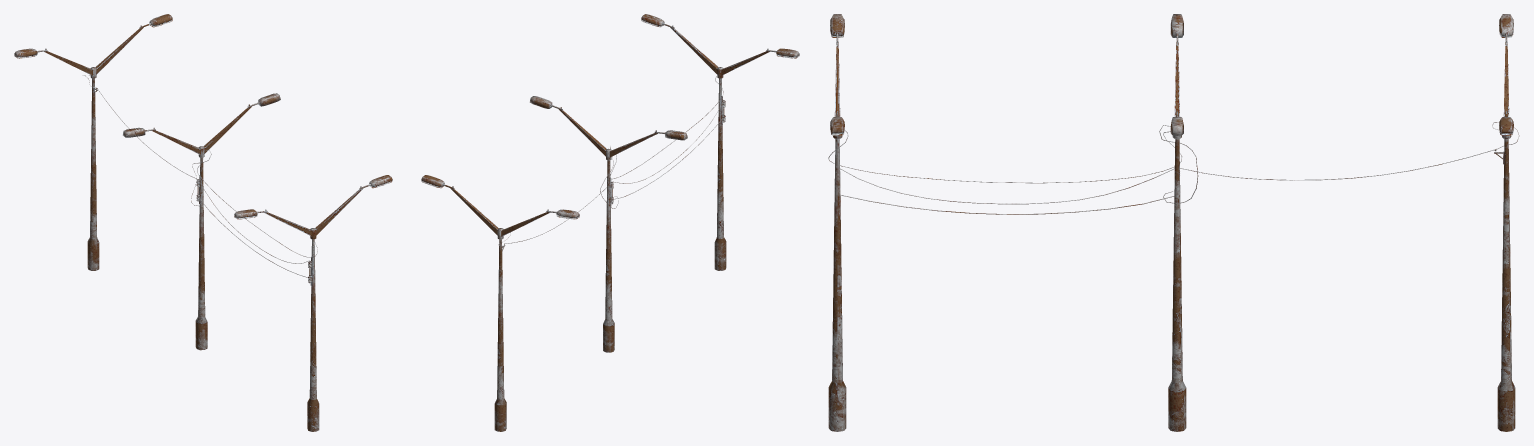
File: LightPolesMesh.fbx
3 renders of one model, left to right at view 1: azimuth 30°, elevation 25°; view 2: azimuth 150°, elevation 25°; view 3: azimuth 270°, elevation 25°, orthographic. The views are drawn at different scales.
Parts seen in each view (by area): view 1: LightPole_GEO1, LightPole_GEO2, LightPole_GEO3; view 2: LightPole_GEO1, LightPole_GEO2, LightPole_GEO3; view 3: LightPole_GEO1, LightPole_GEO3, LightPole_GEO2.
Boxes of the visible parts, bbox=[...] form: LightPole_GEO1: bbox=[122, 93, 308, 350]; LightPole_GEO2: bbox=[197, 154, 392, 431]; LightPole_GEO3: bbox=[14, 14, 197, 270]; LightPole_GEO1: bbox=[529, 96, 723, 352]; LightPole_GEO2: bbox=[610, 14, 799, 270]; LightPole_GEO3: bbox=[421, 175, 611, 431]; LightPole_GEO1: bbox=[840, 14, 1198, 431]; LightPole_GEO3: bbox=[1180, 14, 1519, 431]; LightPole_GEO2: bbox=[828, 14, 1182, 431].
Bounding box in the file's own units: 6.45 × 9.34 × 16.35.
Materials: 4 (3 with a texture image).
